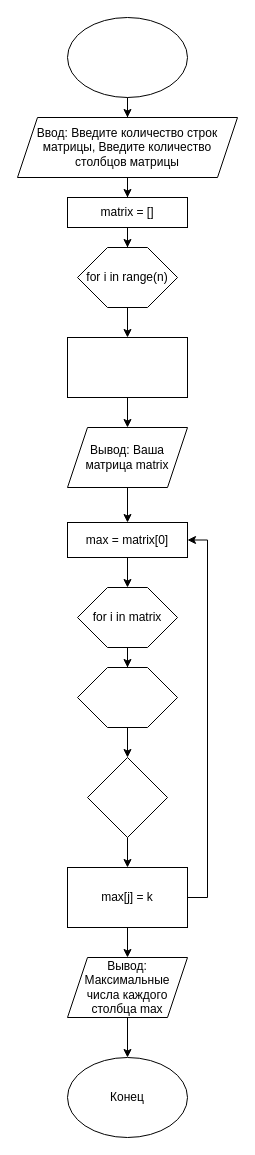
This 255x1155 diagram has some shape labels left out. Here are the shapes that lost their labels. From the top down, the centre of each, then its label:
the point at 127,57: Начало
the point at 127,367: matrix += input(Введите матрицу по цифрам) for i in range(m)
the point at 127,697: for j, k in enumerate(i)
the point at 127,797: k > max[j]
